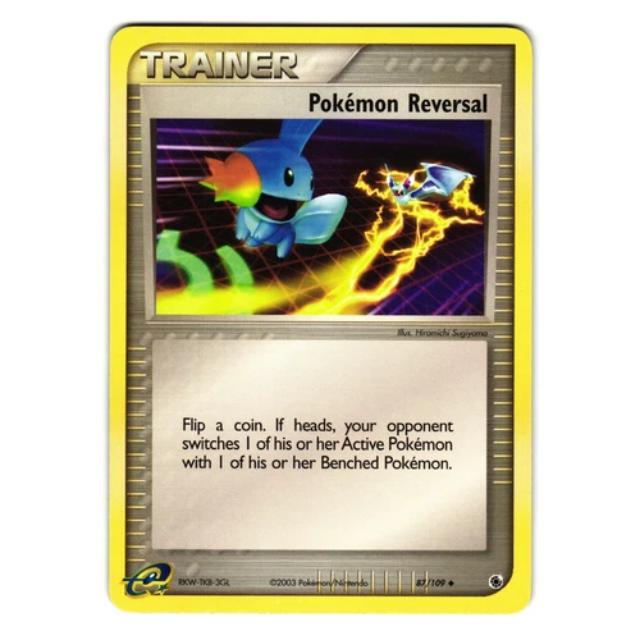Card: (100, 17, 539, 619)
Name: (300, 87, 494, 120)
